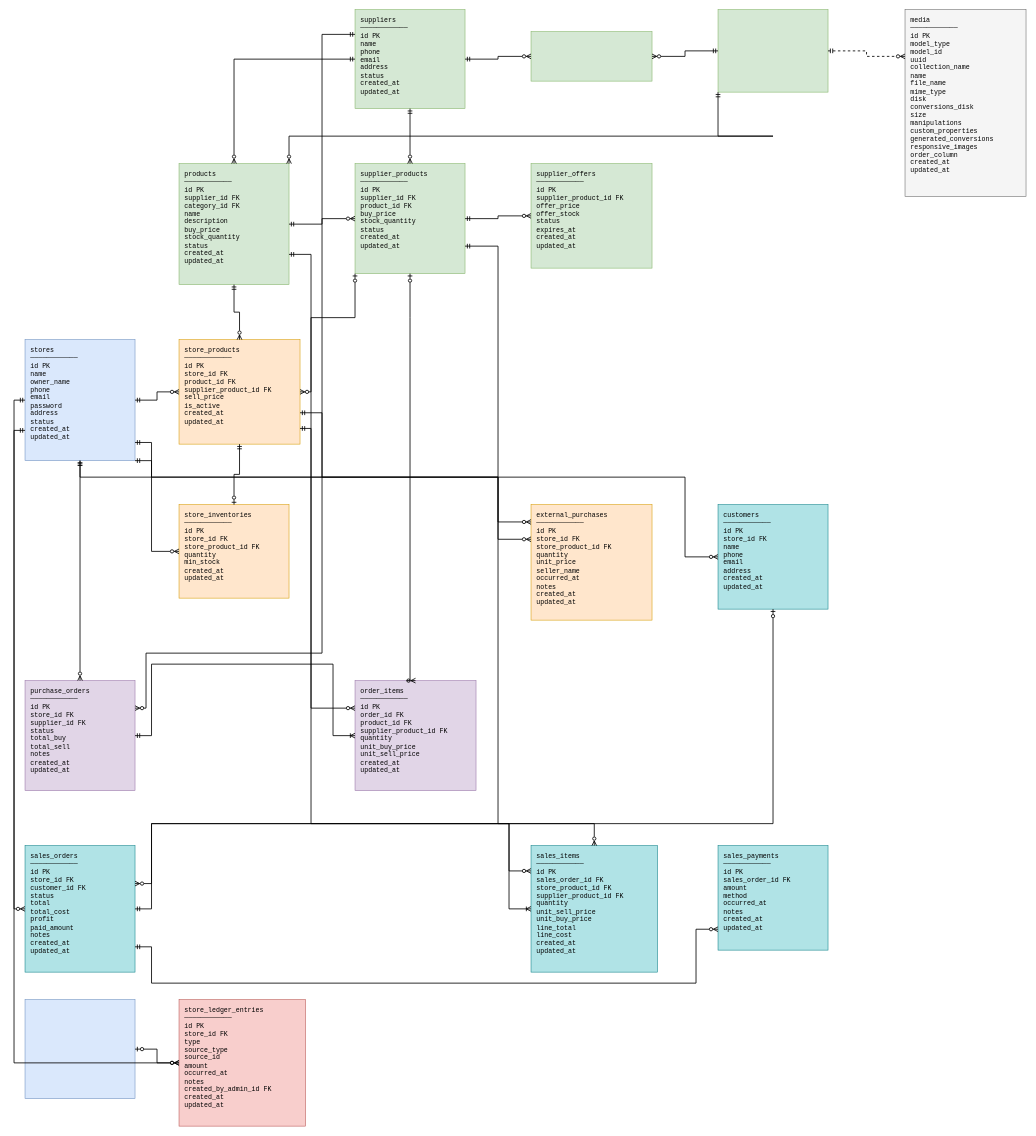
Some shapes in this 1036 by 1136 pixel diagram are drawn without their labels. The shapes that lost their labels are listed below. From the top down, each one's centre as x and y in pixels, then its label:
At (x=591, y=56): "supplier_categories ──────────── supplier_id PK FK category_id PK FK".
At (x=772, y=50): "categories ──────────── id PK name image created_at updated_at".
At (x=79, y=1049): "admins ──────────── id PK name email password status created_at updated_at".
